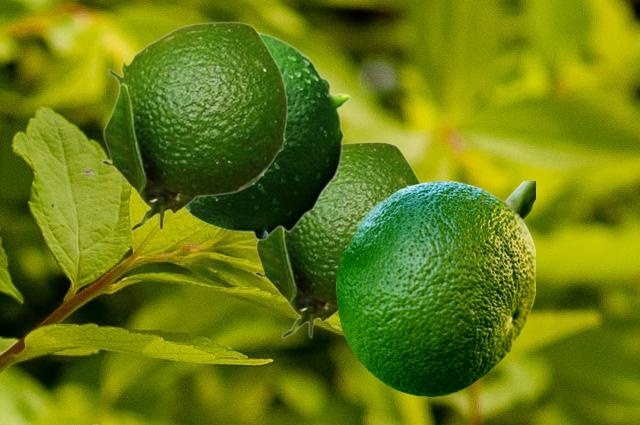dalandan: (336, 181, 534, 395), (100, 21, 287, 231), (184, 30, 350, 240), (253, 141, 421, 338)
